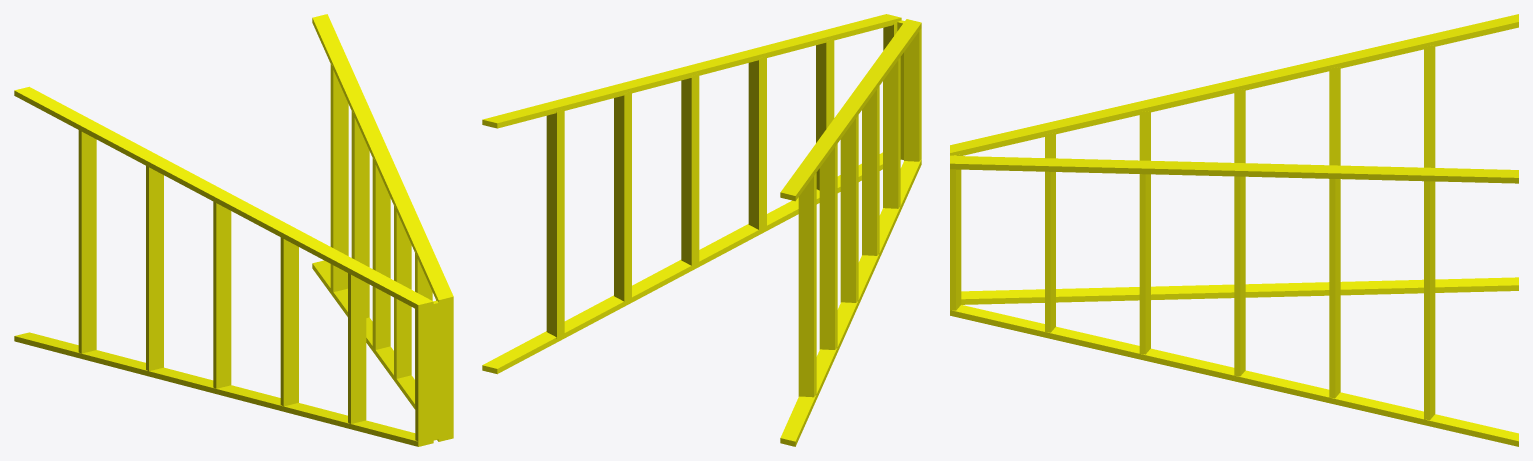
File: nil_link_mesh.dae
3 views of the same model, side by side, from view 1: azimuth 30°, elevation 25°; view 2: azimuth 150°, elevation 25°; view 3: azimuth 270°, elevation 25° (orthographic). The views are drawn at different scales.
Visible parts, largest first — view 1: nil_link (×17); view 2: nil_link (×16); view 3: nil_link (×14).
Part boxes in pixels (x1,y1,x2,y2): nil_link (×17): (14,14,453,446); nil_link (×16): (482,14,921,446); nil_link (×14): (950,14,1518,446).
Size of the model in its own units: 1.24 by 0.952 by 1.82.
